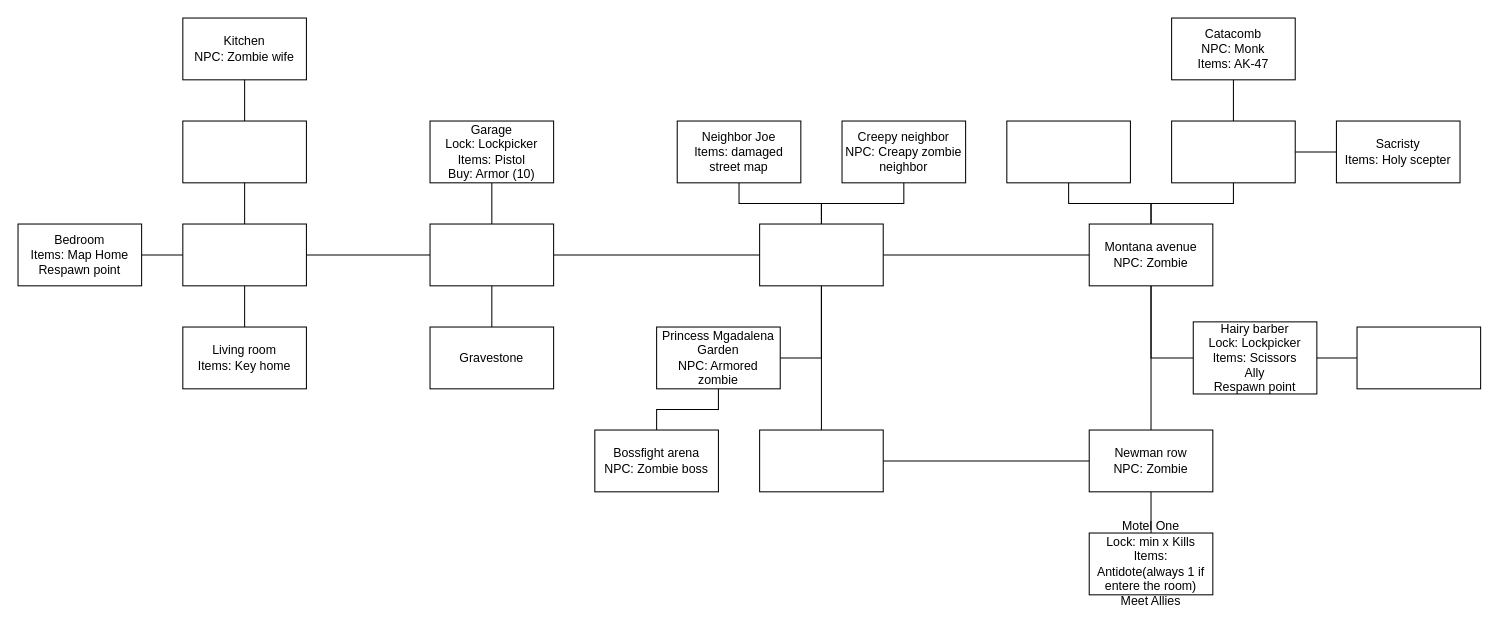
Image size: 1499x626. Some labels were removed from this diagram. Each missing label, with the centre of its shape:
"Bathroom" belongs at point 1418,357.
"Canal street NPC: Zombie" belongs at point 821,254.
"Cathetral NPC: Priest Items: Full street map" belongs at point 1233,151.
"Corridor" belongs at point 244,254.
"Front yard Lock: Key home Respawn point" belongs at point 491,254.
"Lounge Items: Lockpicker" belongs at point 244,151.
"REWE to go Items: Various food (regains health)" belongs at point 1068,151.
"Wilson grove NPC: Zombie" belongs at point 821,460.
